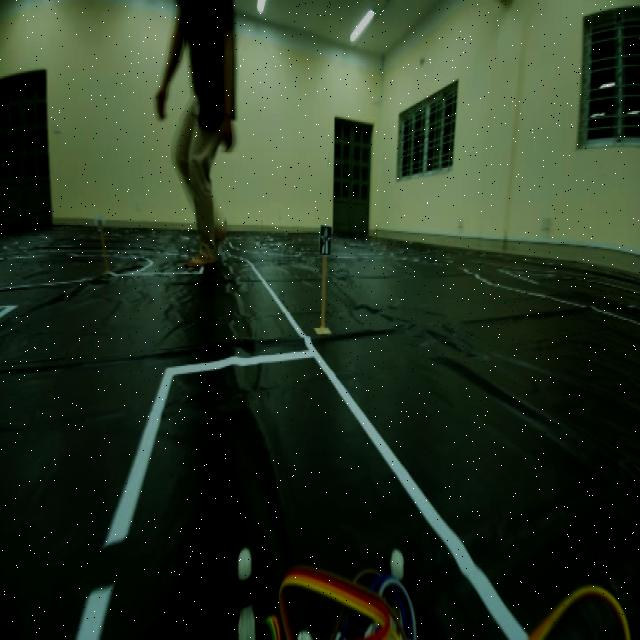highway_exit: (315, 217, 337, 261)
